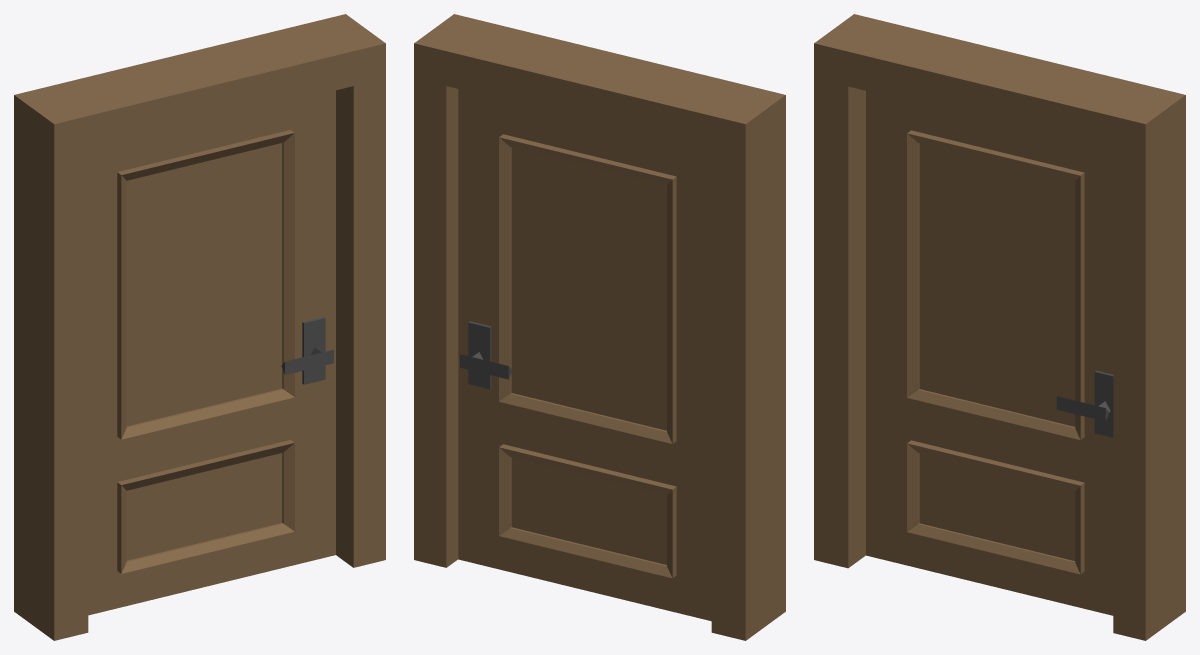
File: woodenDoor1.glb
3 views of the same model, side by side, from view 1: azimuth 30°, elevation 25°; view 2: azimuth 150°, elevation 25°; view 3: azimuth 330°, elevation 25° (orthographic).
Parts seen in each view (by area): view 1: DoorBoard, Cube; view 2: DoorBoard, Cube; view 3: DoorBoard, Cube.
Part boxes in pixels (<box>): DoorBoard: <box>88,90,335,615</box>; Cube: <box>14,14,385,640</box>; DoorBoard: <box>458,89,711,621</box>; Cube: <box>414,14,785,640</box>; DoorBoard: <box>866,91,1113,615</box>; Cube: <box>814,14,1185,640</box>.
Size of the model in its own units: 1.57 by 2.33 by 0.33.
Materials: 1 (1 with a texture image).
